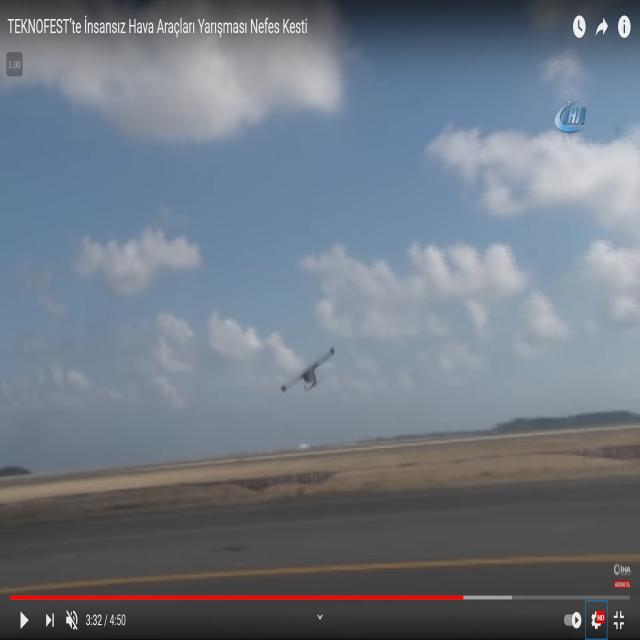iha: (279, 346, 335, 393)
